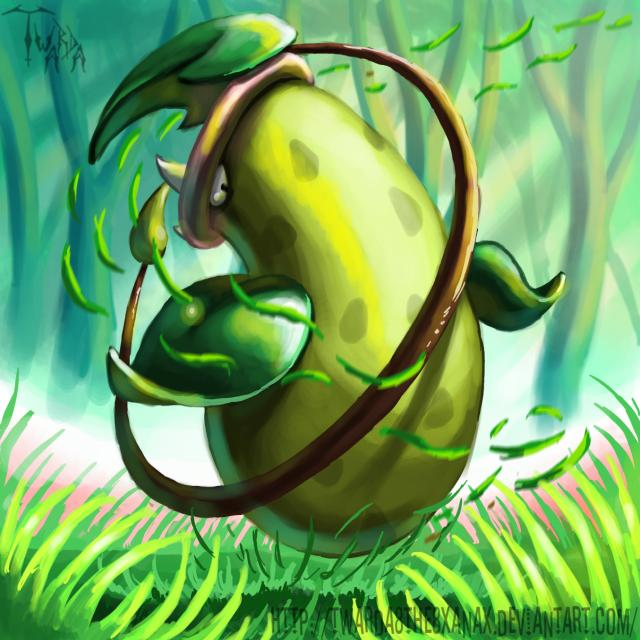Victreebel: (163, 52, 492, 555)
